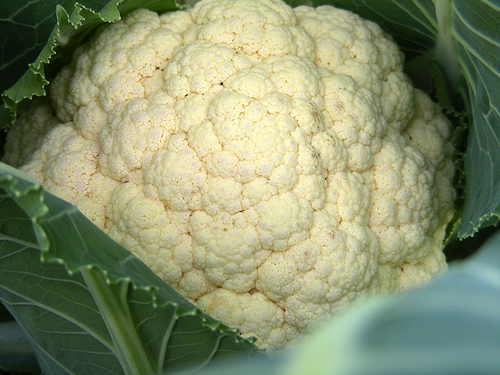cauliflower: (0, 1, 460, 350)
